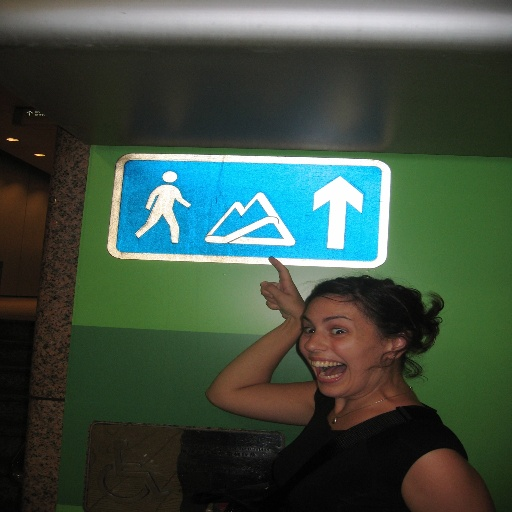hand: (259, 255, 308, 323)
